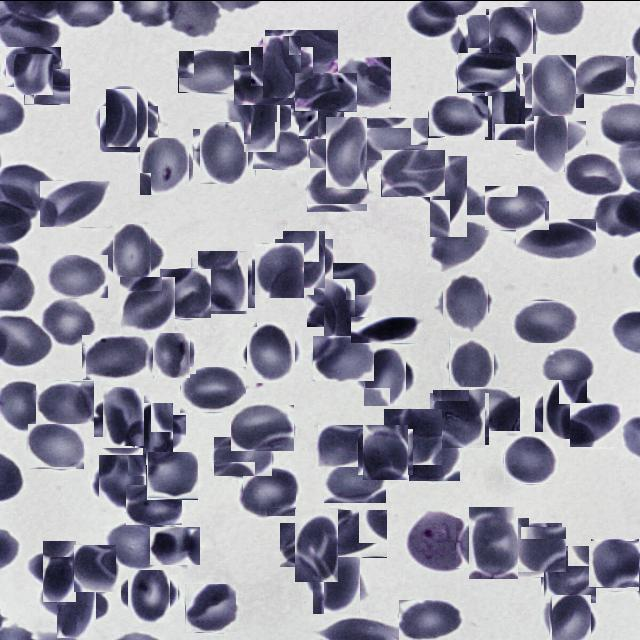red blood cell: (462, 512, 524, 572), (418, 165, 478, 225), (265, 29, 338, 78), (288, 514, 346, 574), (426, 221, 491, 272), (308, 550, 365, 608), (194, 253, 252, 310), (318, 124, 375, 181), (384, 408, 442, 464), (82, 334, 152, 380), (40, 180, 110, 226), (516, 218, 596, 258), (542, 546, 598, 602), (196, 124, 252, 180), (94, 451, 150, 507), (119, 276, 175, 332), (331, 56, 391, 108), (244, 324, 299, 380), (48, 574, 104, 629), (432, 390, 487, 446), (180, 366, 246, 412), (324, 508, 387, 556), (512, 299, 582, 342), (381, 149, 445, 196), (178, 50, 249, 92), (484, 185, 549, 230), (478, 78, 532, 132), (138, 138, 192, 192), (231, 404, 294, 450), (234, 89, 288, 142), (527, 58, 580, 111), (438, 275, 492, 327), (399, 599, 467, 640), (253, 243, 306, 295), (313, 335, 374, 380), (458, 386, 520, 430), (314, 262, 382, 302), (365, 117, 428, 160), (526, 111, 578, 163), (538, 382, 590, 434), (101, 90, 153, 142), (100, 105, 158, 151), (307, 167, 369, 210), (46, 254, 108, 297), (565, 152, 625, 196), (27, 423, 84, 469), (36, 380, 94, 425), (324, 460, 386, 502), (446, 340, 497, 391), (106, 229, 157, 280), (504, 435, 558, 483), (242, 468, 296, 516), (107, 523, 163, 569), (360, 350, 410, 401), (590, 539, 640, 590), (257, 40, 307, 91), (0, 12, 62, 53), (130, 408, 180, 458), (98, 390, 148, 440), (279, 234, 329, 284), (514, 524, 564, 574), (360, 426, 410, 476), (161, 268, 211, 318), (185, 583, 236, 632), (428, 95, 488, 136), (294, 72, 357, 111), (234, 64, 295, 104), (124, 570, 174, 618), (147, 451, 198, 498), (41, 300, 94, 345), (213, 436, 272, 476), (457, 52, 516, 92), (540, 346, 596, 388), (409, 434, 460, 480), (252, 130, 310, 170), (316, 286, 364, 334), (36, 546, 84, 594), (455, 17, 503, 65), (10, 42, 58, 90), (575, 55, 634, 94), (570, 402, 622, 446), (487, 7, 535, 54), (126, 484, 182, 524), (294, 89, 340, 134), (546, 596, 593, 640), (318, 424, 366, 466), (74, 544, 116, 591), (150, 526, 200, 564), (351, 316, 424, 342), (150, 333, 192, 375), (24, 68, 70, 104)
ring: (406, 508, 470, 572)
